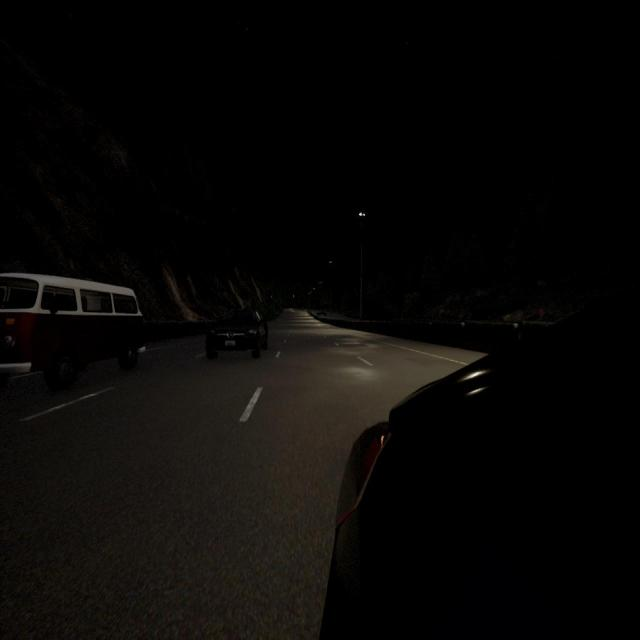Traffic_Signs: (538, 308, 544, 316)
Vehicle: (319, 293, 640, 640), (0, 273, 147, 389), (205, 308, 269, 359), (316, 310, 328, 316)
